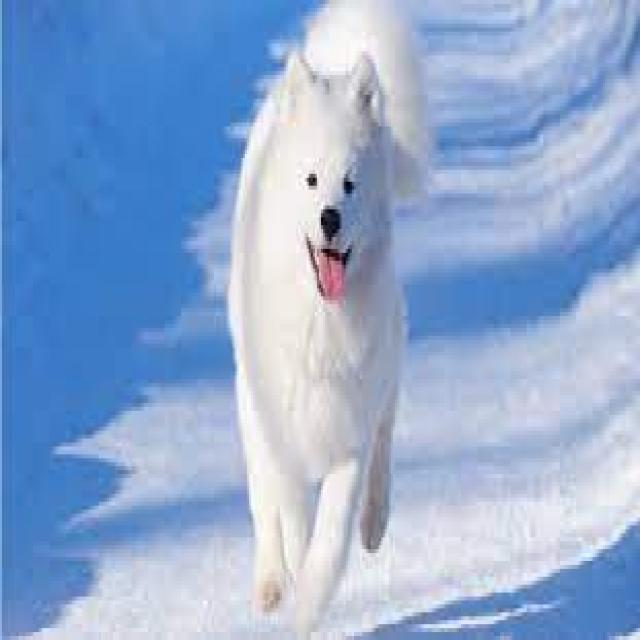dogs: (226, 0, 434, 640)
